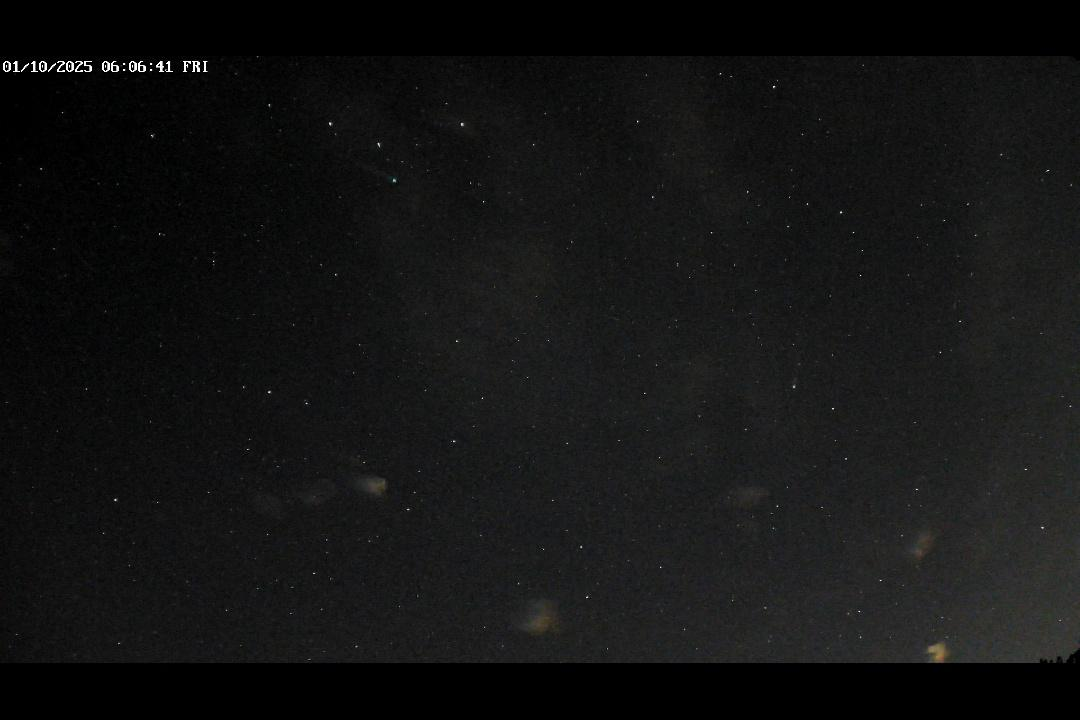Plane: (356, 162, 407, 188)
